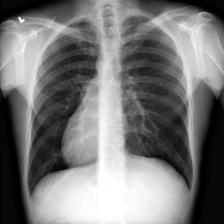normal: (24, 10, 198, 204)
